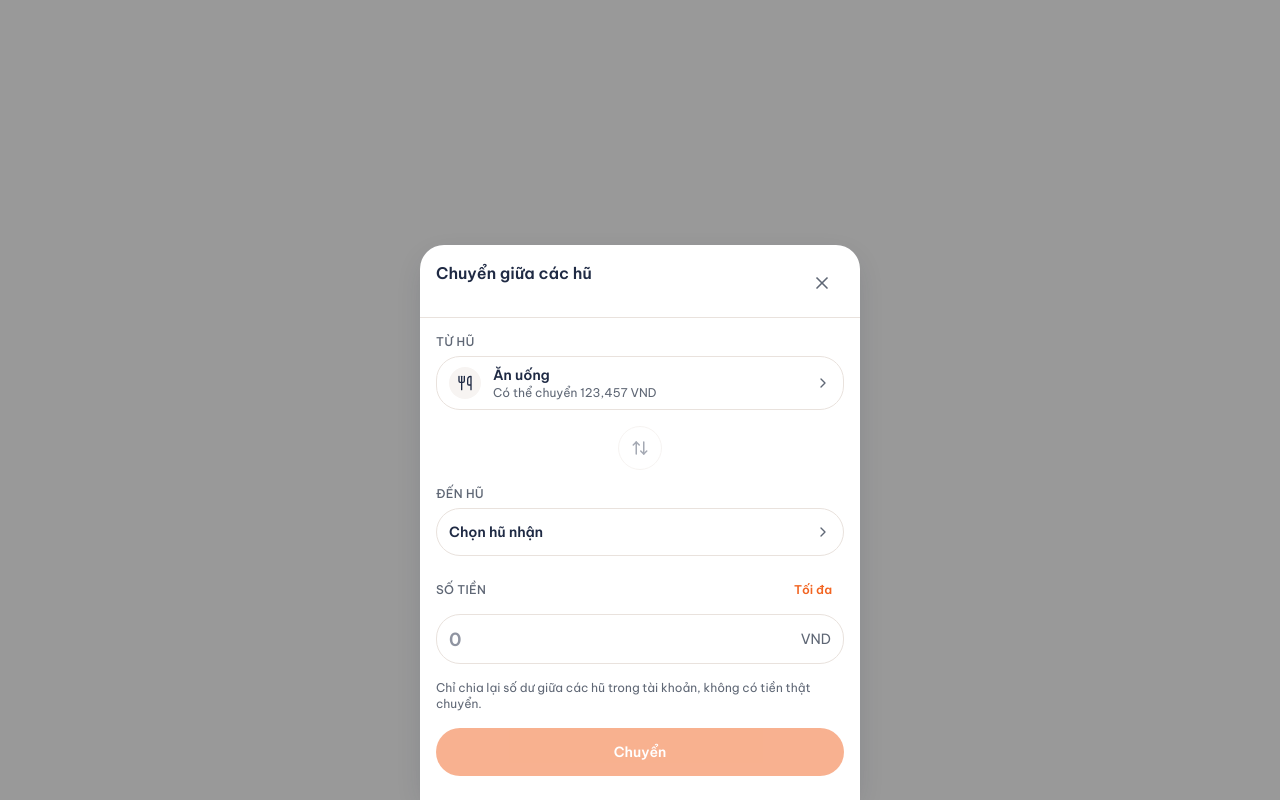
Test: JarTransferSheet — amount validation › shows an inline cap error and disables confirm over cap; 'Tối đa' fills an odd-amount cap exactly
Click the button "Chọn hũ nhận": x=496, y=532 [436, 508, 844, 556]
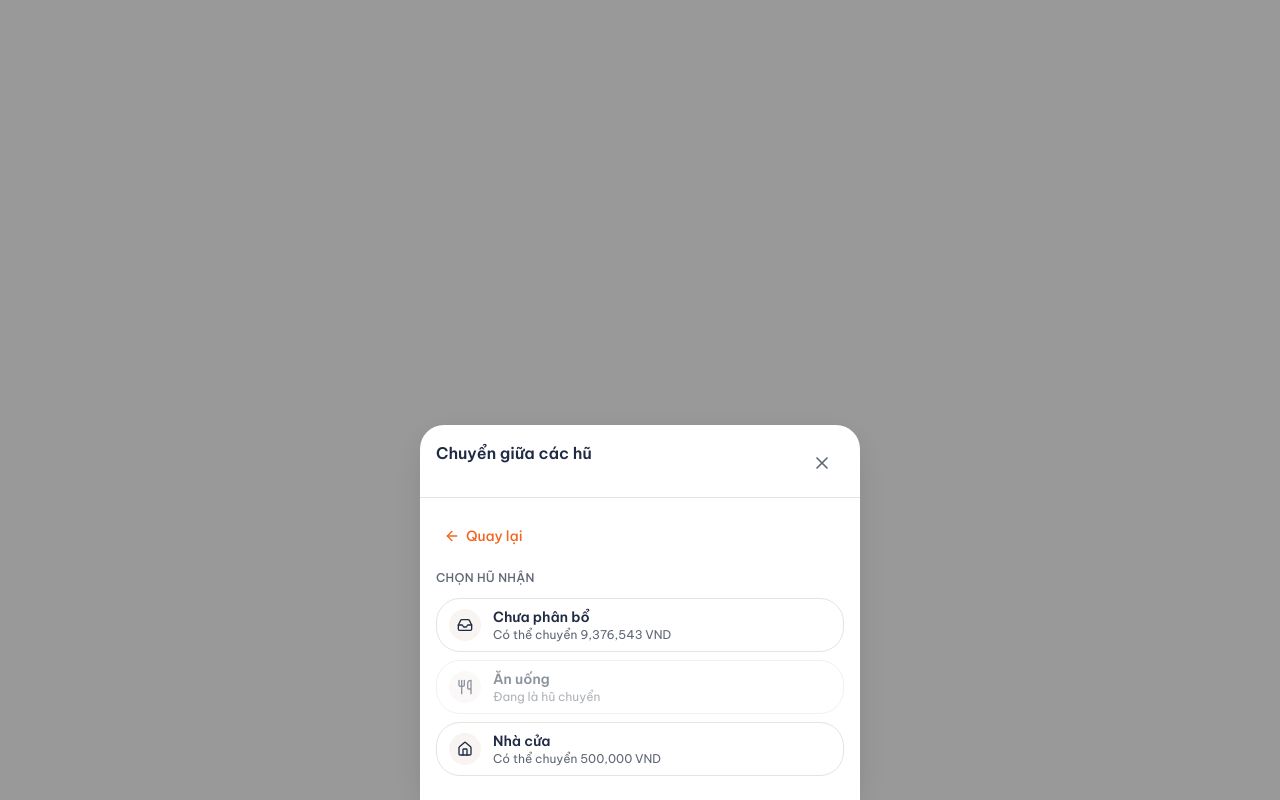
Click the button "Nhà cửa Có thể chuyển 500,000 VND": x=640, y=749 [436, 722, 844, 776]
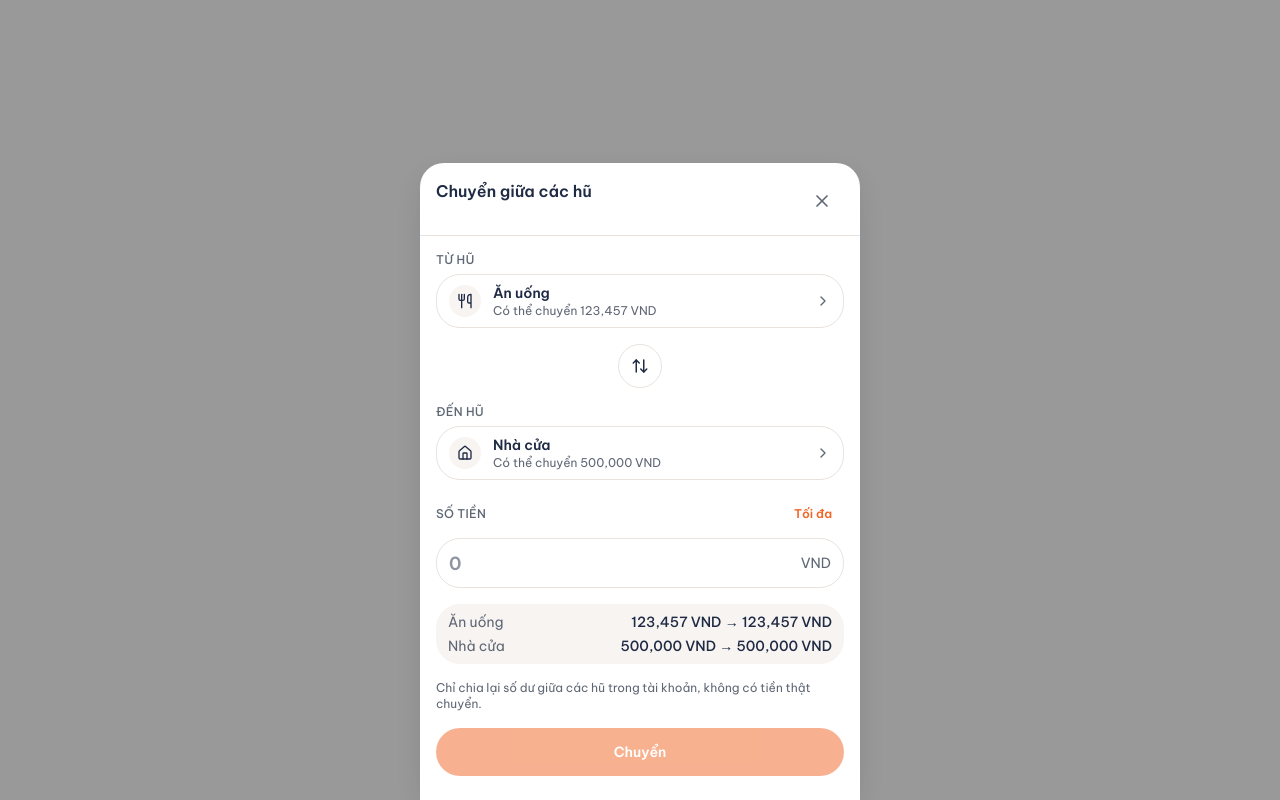
In the field labelled "Số tiền": x=625, y=563 [449, 539, 801, 587], type "200000"
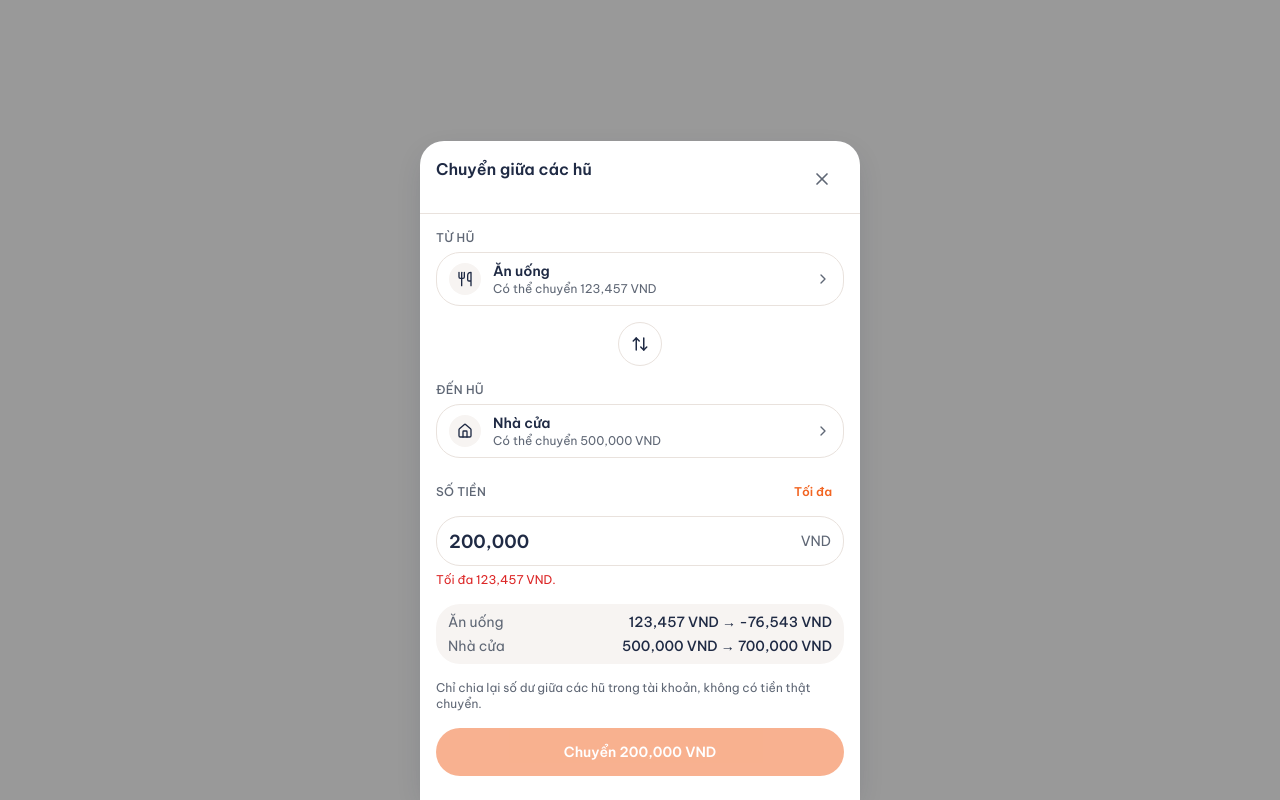
Now the text "Tối đa 123,457 VND." is shown, box [436, 572, 556, 587]
Now the button "Chuyển 200,000 VND" is disabled, box [436, 728, 844, 776]
Click the button "Tối đa": x=813, y=492 [782, 474, 844, 510]
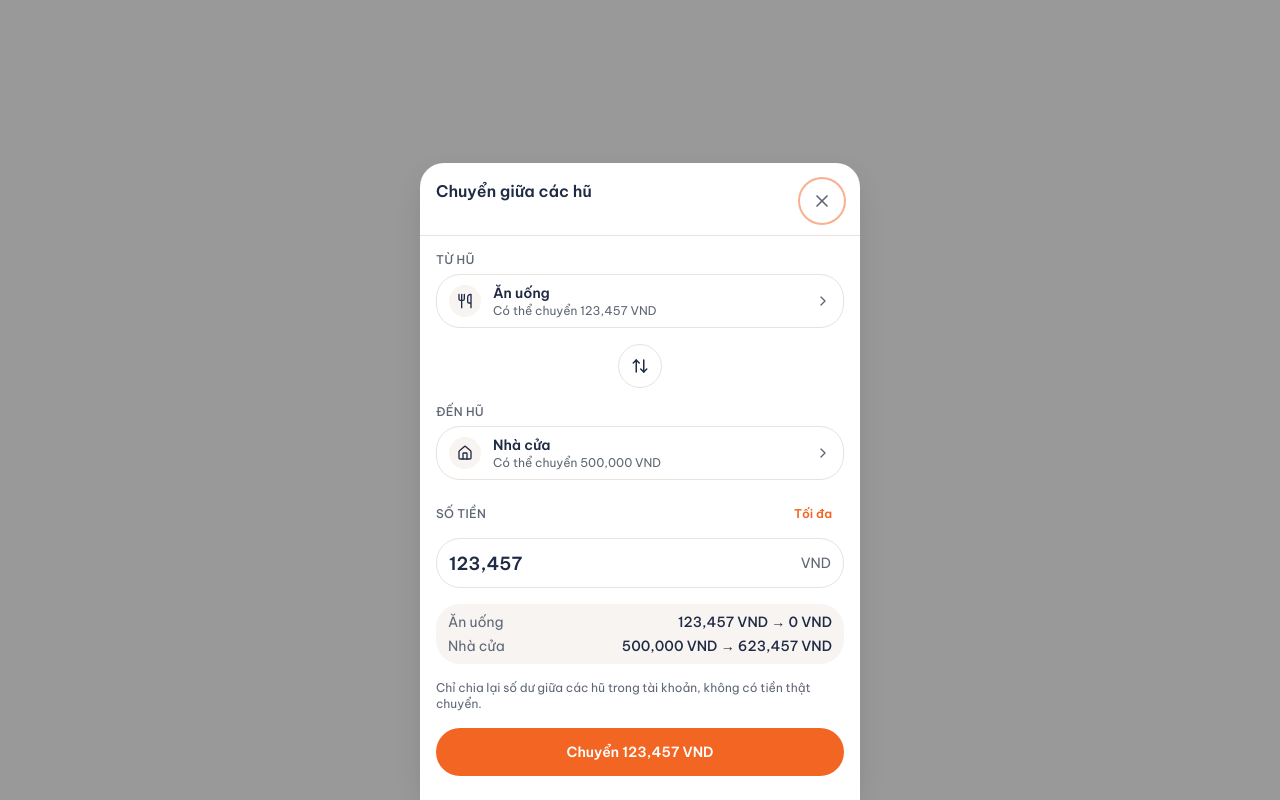
Now the field labelled "Số tiền" holds "123,457", box [449, 539, 801, 587]
Now the text "Tối đa 123,457 VND." is gone
Now the button "Chuyển 123,457 VND" is enabled, box [436, 728, 844, 776]
